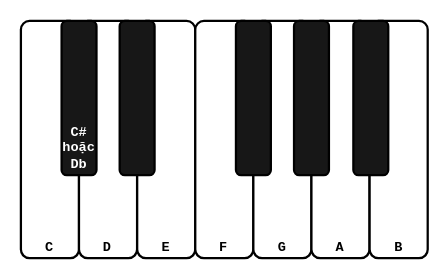
The diagram is 447 pixels wide and 278 high, and some of its shapes have lost their labels. Each missing label, with the box of its shape:
A# hoặc Bb: (352, 19, 389, 176)
D# hoặc Eb: (118, 19, 155, 176)
F# hoặc Gb: (234, 19, 271, 176)
G# hoặc Ab: (292, 19, 330, 176)
